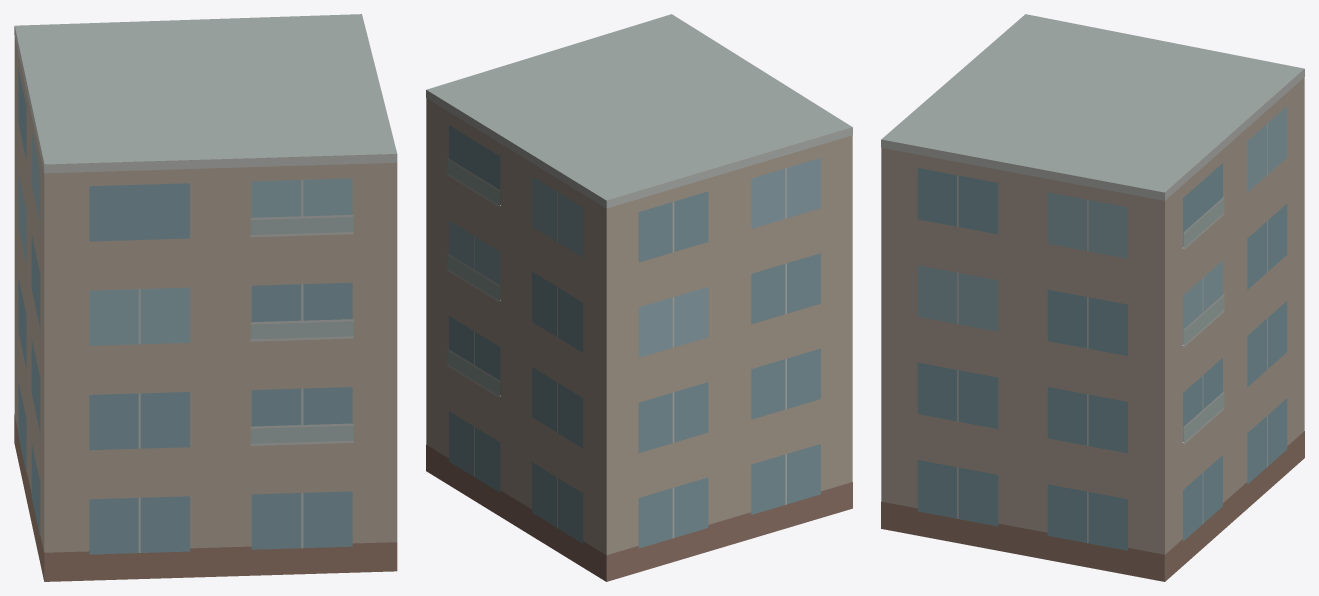
Rendered from survey-upis-32489345.glb.
3 views of the same model, side by side, from view 1: azimuth 30°, elevation 25°; view 2: azimuth 150°, elevation 25°; view 3: azimuth 270°, elevation 25° (orthographic). The views are drawn at different scales.
Visible parts, largest first — view 1: survey-upis-32489345.tmp; view 2: survey-upis-32489345.tmp; view 3: survey-upis-32489345.tmp.
Boxes of the visible parts, <box> form: survey-upis-32489345.tmp: <box>14,14,397,581</box>; survey-upis-32489345.tmp: <box>426,14,852,581</box>; survey-upis-32489345.tmp: <box>881,14,1304,581</box>.
Size of the model in its own units: 11.32 by 11.5 by 11.35.
